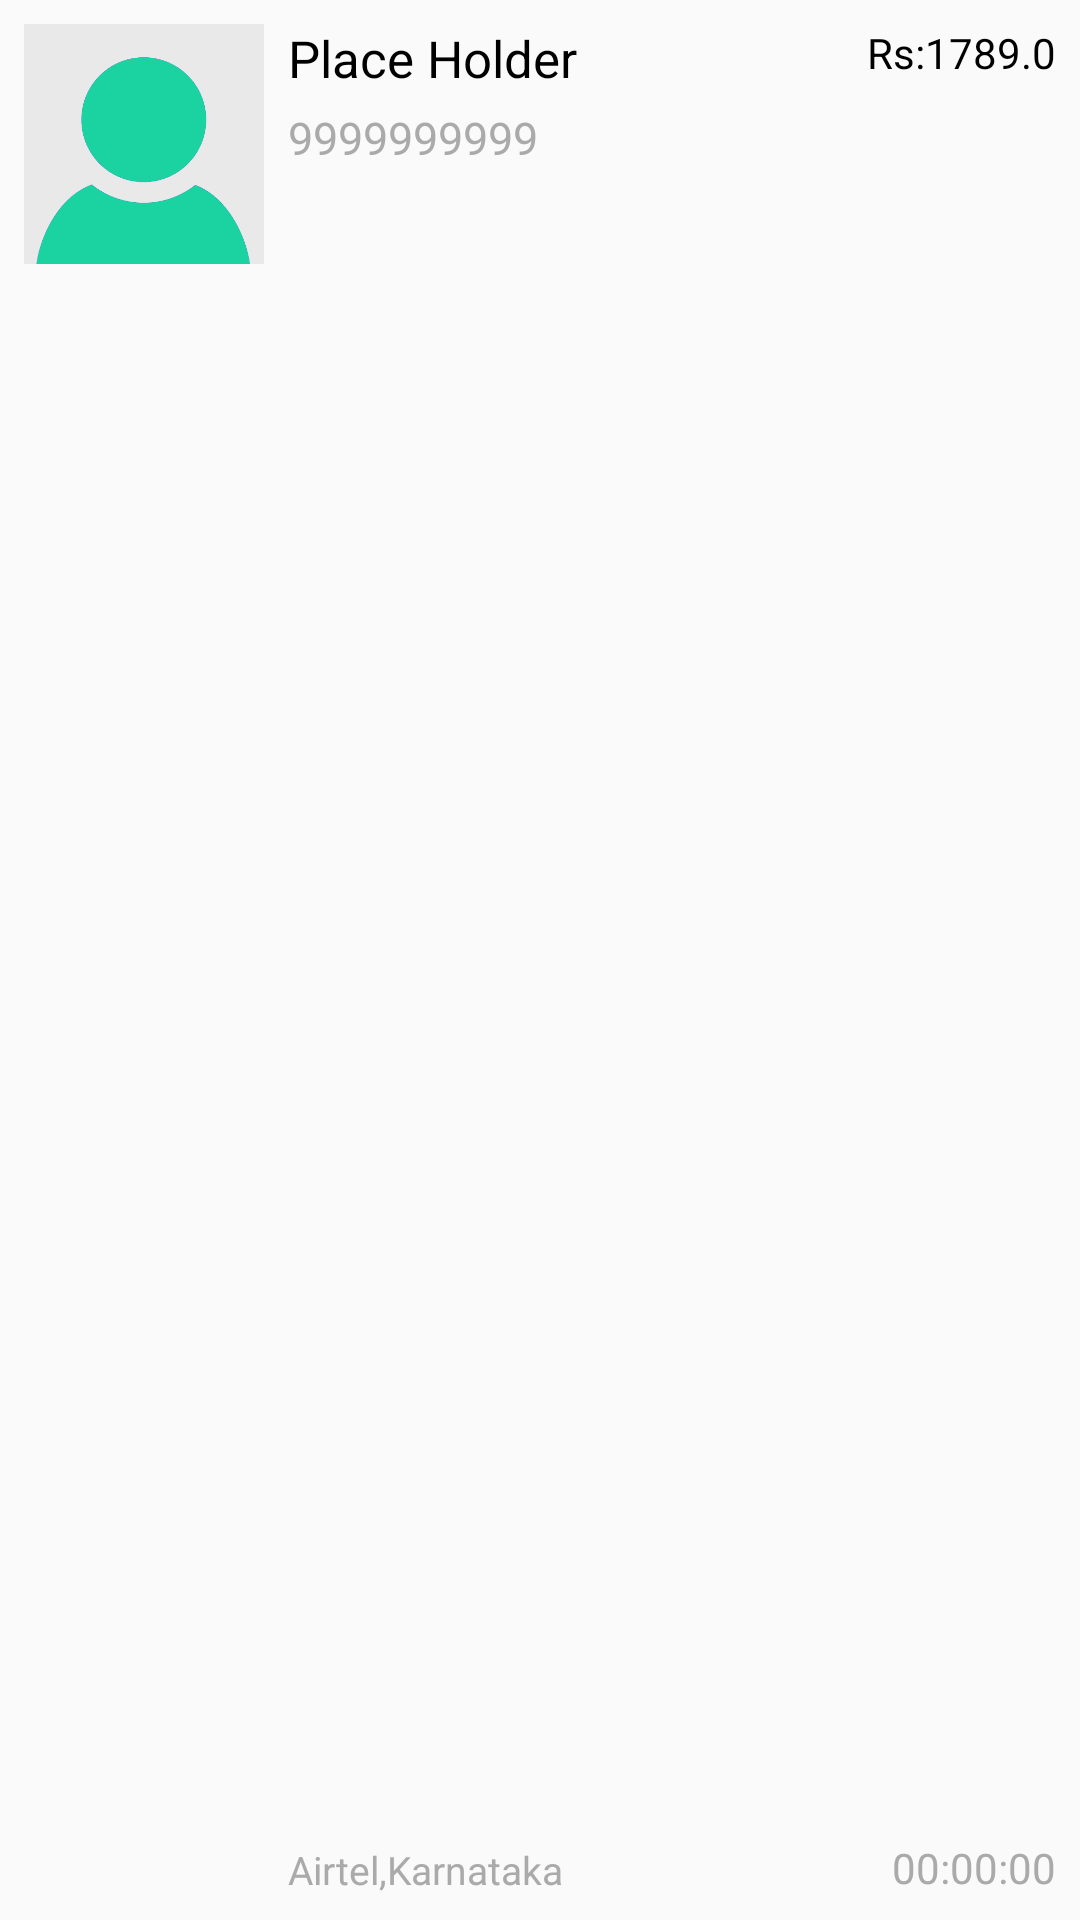

Icon click points for this 1080w x 1920h phone screenshot, format [x,y]:
contact: [143,160]
